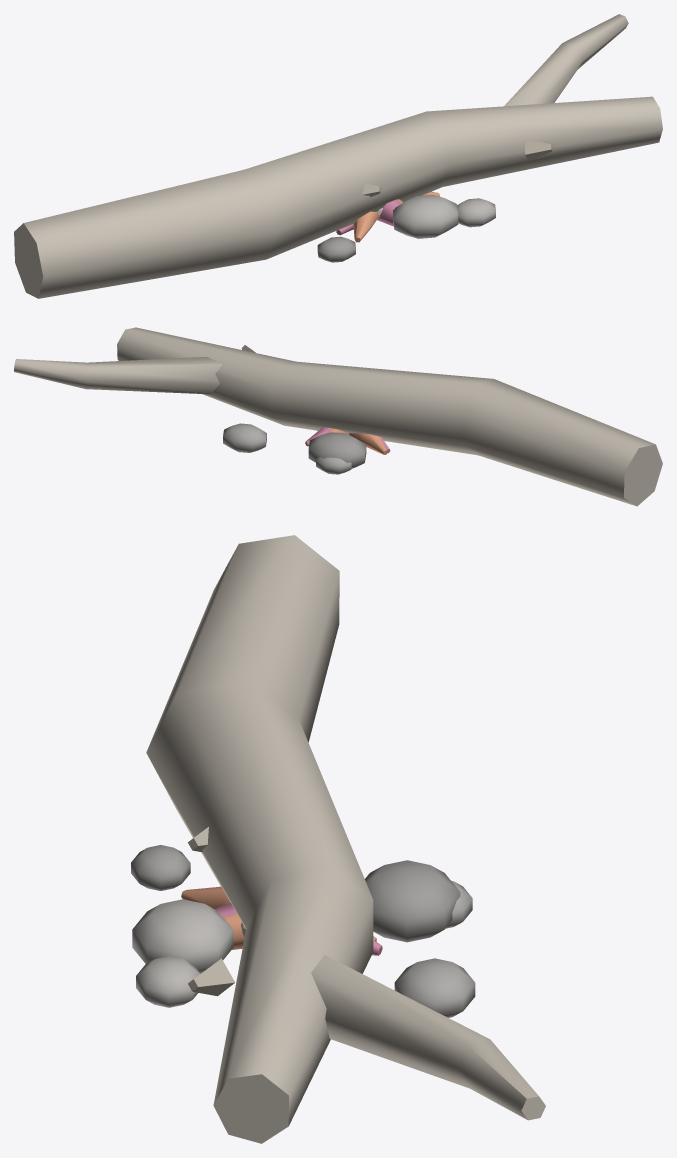
File: beach.glb
3 renders of one model, top to bottom at view 1: azimuth 30°, elevation 25°; view 2: azimuth 150°, elevation 25°; view 3: azimuth 270°, elevation 25°, orthographic. The views are drawn at different scales.
Visible parts, largest first — view 1: driftwood_0, pebbles_0, starfish_0, starfish_1; view 2: driftwood_0, pebbles_0, starfish_0; view 3: driftwood_0, pebbles_0, starfish_0.
Boxes of the visible parts, <box> form: driftwood_0: <box>14,14,662,298</box>; pebbles_0: <box>317,194,495,262</box>; starfish_0: <box>353,191,440,242</box>; starfish_1: <box>336,199,400,235</box>; driftwood_0: <box>14,327,662,506</box>; pebbles_0: <box>223,423,366,474</box>; starfish_0: <box>326,428,387,454</box>; driftwood_0: <box>146,535,545,1143</box>; pebbles_0: <box>131,845,475,1017</box>; starfish_0: <box>181,886,376,949</box>.
Bounding box in the file's own units: 1.97 × 0.2536 × 0.6215.
